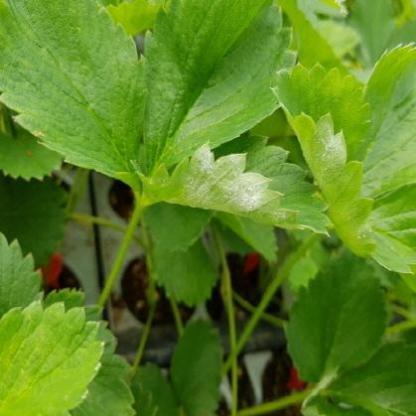Strawberry_Powdery_Mildew_Leaf: (134, 128, 334, 238), (268, 63, 378, 260), (0, 297, 104, 415)
